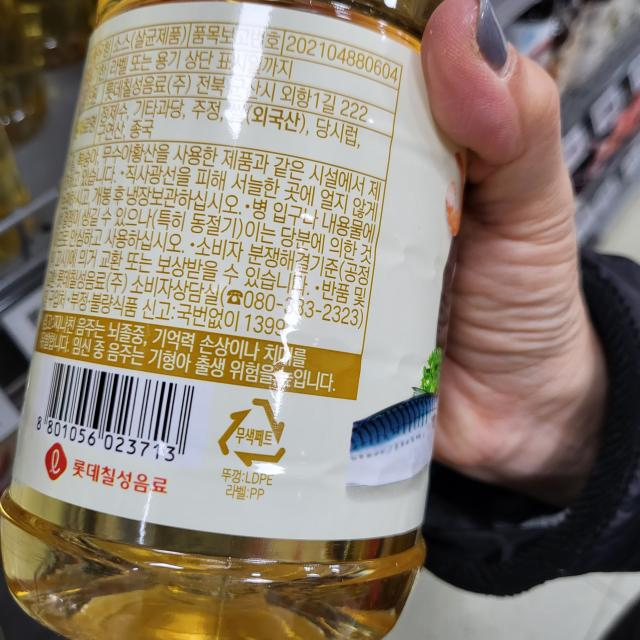ColorlessPET: (216, 396, 287, 471)
